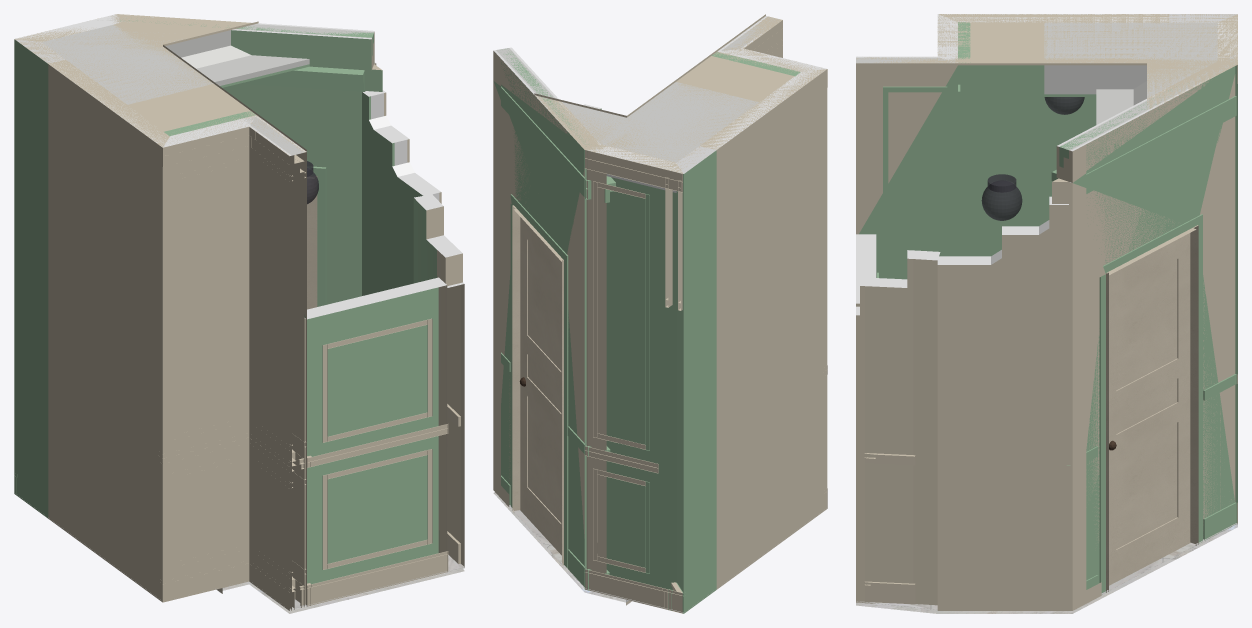
The model's file is powder-room-19486b447ae7.glb.
3 views of the same model, side by side, from view 1: azimuth 30°, elevation 25°; view 2: azimuth 150°, elevation 25°; view 3: azimuth 270°, elevation 25° (orthographic). The views are drawn at different scales.
Parts seen in each view (by area): view 1: powder-room-d33eebe572d154f2, powder-room-1a8091885ac212af, powder-room-ab5cb5e7d303dd66, powder-room-85f0fd939e0fcc78, powder-room-a5eabba2ad6474eb, powder-room-9b21989b25895c4a, powder-room-2575515a05775d9e, powder-room-5b07a8f5f7929ff6, powder-room-c18614f52c08eb0a, powder-room-3d7935a3f1355396, powder-room-e5e2173c4bbfdbc5, powder-room-c56c1017208455ae (+8 smaller); view 2: powder-room-d33eebe572d154f2, powder-room-a5eabba2ad6474eb, powder-room-b2b5f93b4255576d, powder-room-9b21989b25895c4a, powder-room-539cd4ce99668665, powder-room-2575515a05775d9e, powder-room-5b07a8f5f7929ff6, powder-room-86d6fc7292b21ae1, powder-room-ae2ab6de1156d266, powder-room-48dc2409da547ff7, powder-room-f5fbb4dd3b92b4c5, powder-room-60b0468410271b8c (+11 smaller); view 3: powder-room-d65b0a574c2ac13c, powder-room-a5eabba2ad6474eb, powder-room-c18614f52c08eb0a, powder-room-539cd4ce99668665, powder-room-85f0fd939e0fcc78, powder-room-d33eebe572d154f2, powder-room-2575515a05775d9e, powder-room-5b07a8f5f7929ff6, powder-room-48dc2409da547ff7, powder-room-86d6fc7292b21ae1, powder-room-48dd1d74e06d76de, powder-room-e08d4ba707d0aa50 (+17 smaller).
Part boxes in pixels (left/top/right/bottom): powder-room-d33eebe572d154f2: left=48, top=60, right=167, bottom=601; powder-room-1a8091885ac212af: left=163, top=116, right=255, bottom=602; powder-room-ab5cb5e7d303dd66: left=306, top=277, right=447, bottom=605; powder-room-85f0fd939e0fcc78: left=243, top=115, right=306, bottom=610; powder-room-a5eabba2ad6474eb: left=97, top=14, right=382, bottom=304; powder-room-9b21989b25895c4a: left=14, top=39, right=64, bottom=518; powder-room-2575515a05775d9e: left=14, top=14, right=306, bottom=155; powder-room-5b07a8f5f7929ff6: left=42, top=24, right=309, bottom=104; powder-room-c18614f52c08eb0a: left=413, top=194, right=464, bottom=567; powder-room-3d7935a3f1355396: left=362, top=92, right=425, bottom=295; powder-room-e5e2173c4bbfdbc5: left=307, top=551, right=448, bottom=606; powder-room-c56c1017208455ae: left=322, top=318, right=432, bottom=442; powder-room-d33eebe572d154f2: left=701, top=69, right=827, bottom=589; powder-room-a5eabba2ad6474eb: left=493, top=47, right=606, bottom=589; powder-room-b2b5f93b4255576d: left=584, top=145, right=683, bottom=593; powder-room-9b21989b25895c4a: left=676, top=146, right=716, bottom=613; powder-room-539cd4ce99668665: left=520, top=217, right=561, bottom=555; powder-room-2575515a05775d9e: left=534, top=14, right=826, bottom=173; powder-room-5b07a8f5f7929ff6: left=562, top=82, right=758, bottom=162; powder-room-86d6fc7292b21ae1: left=512, top=205, right=563, bottom=565; powder-room-ae2ab6de1156d266: left=593, top=181, right=649, bottom=450; powder-room-48dc2409da547ff7: left=510, top=194, right=568, bottom=567; powder-room-f5fbb4dd3b92b4c5: left=585, top=569, right=682, bottom=613; powder-room-60b0468410271b8c: left=585, top=150, right=682, bottom=192; powder-room-d65b0a574c2ac13c: left=937, top=204, right=1068, bottom=610; powder-room-a5eabba2ad6474eb: left=1052, top=54, right=1235, bottom=610; powder-room-c18614f52c08eb0a: left=856, top=250, right=940, bottom=605; powder-room-539cd4ce99668665: left=1109, top=233, right=1190, bottom=585; powder-room-85f0fd939e0fcc78: left=856, top=56, right=957, bottom=279; powder-room-d33eebe572d154f2: left=938, top=14, right=1169, bottom=256; powder-room-2575515a05775d9e: left=856, top=14, right=1237, bottom=110; powder-room-5b07a8f5f7929ff6: left=1044, top=22, right=1217, bottom=124; powder-room-48dc2409da547ff7: left=1099, top=214, right=1202, bottom=594; powder-room-86d6fc7292b21ae1: left=1106, top=225, right=1198, bottom=592; powder-room-48dd1d74e06d76de: left=1086, top=96, right=1236, bottom=193; powder-room-e08d4ba707d0aa50: left=883, top=86, right=947, bottom=278.
Bounding box in the file's own units: 1.92 × 3.05 × 2.26.
Materials: 20 (4 with a texture image).
